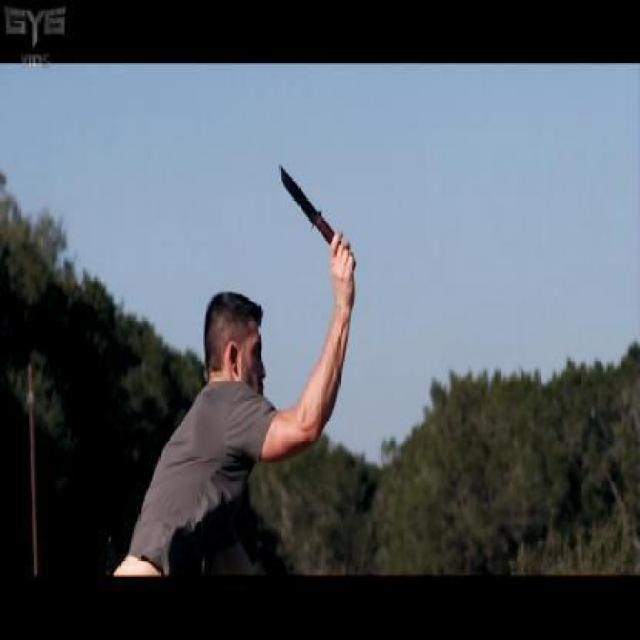-: (274, 152, 360, 283)
